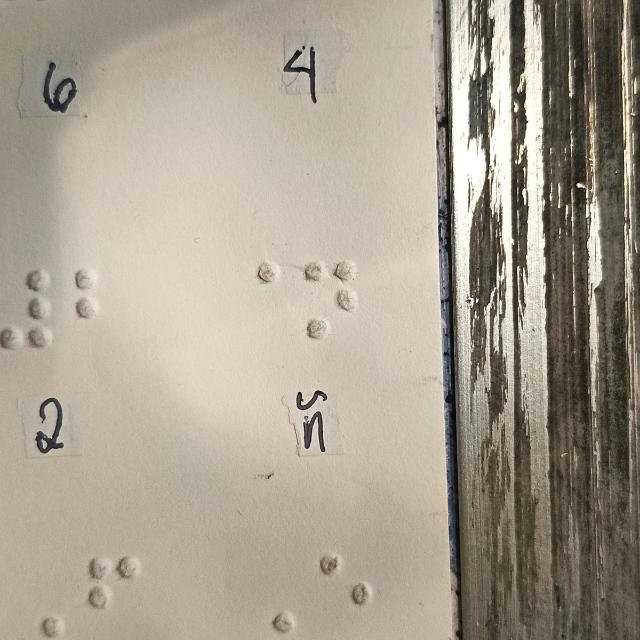capital_sign: (10, 553, 65, 640), (242, 548, 297, 634)
digit_2: (72, 266, 126, 353)
dot_4: (229, 259, 284, 346)
letter_E: (317, 552, 372, 638)
letter_F: (87, 553, 141, 640)
letter_n: (303, 258, 365, 344)
number_sign: (1, 267, 56, 353)
